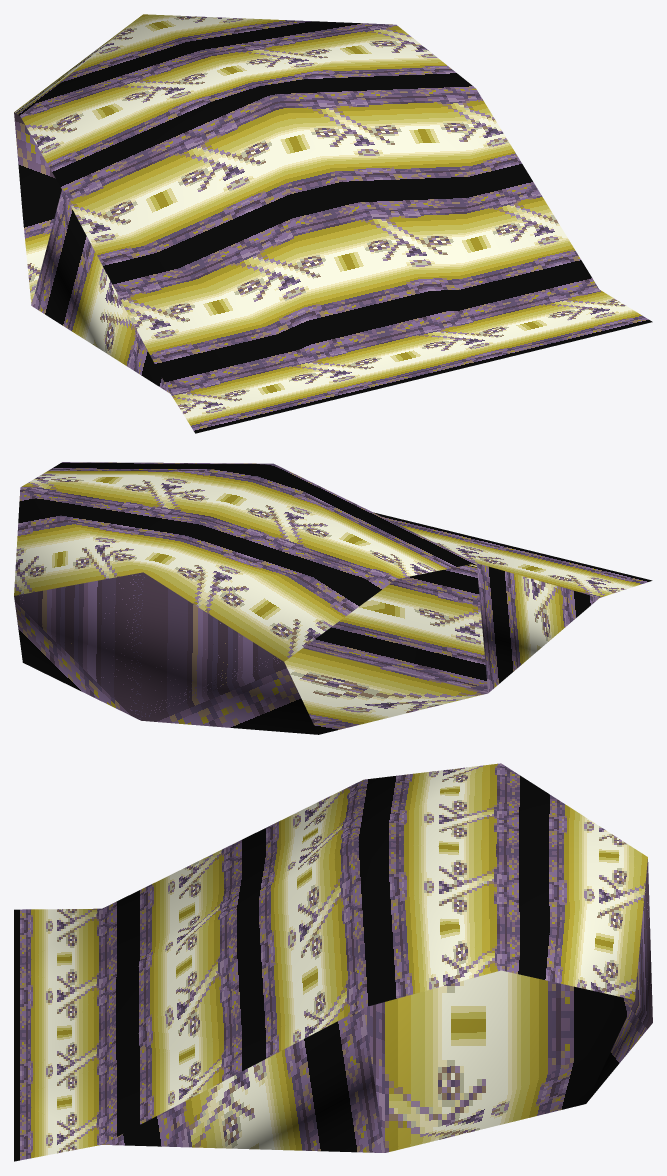
File: 1611top000_c.gltf
The picture shows the model from 3 angles, top to bottom: view 1: azimuth 30°, elevation 25°; view 2: azimuth 150°, elevation 25°; view 3: azimuth 270°, elevation 25°; orthographic projection. The views are drawn at different scales.
Visible parts, largest first — view 1: 1611top000_c; view 2: 1611top000_c; view 3: 1611top000_c.
Boxes of the visible parts, left/top/right/bottom form: 1611top000_c: left=14, top=14, right=652, bottom=433; 1611top000_c: left=14, top=462, right=652, bottom=734; 1611top000_c: left=14, top=763, right=652, bottom=1161.
Size of the model in its own units: 0.7598 by 0.2717 by 0.814.
1 material, 1 textured.
